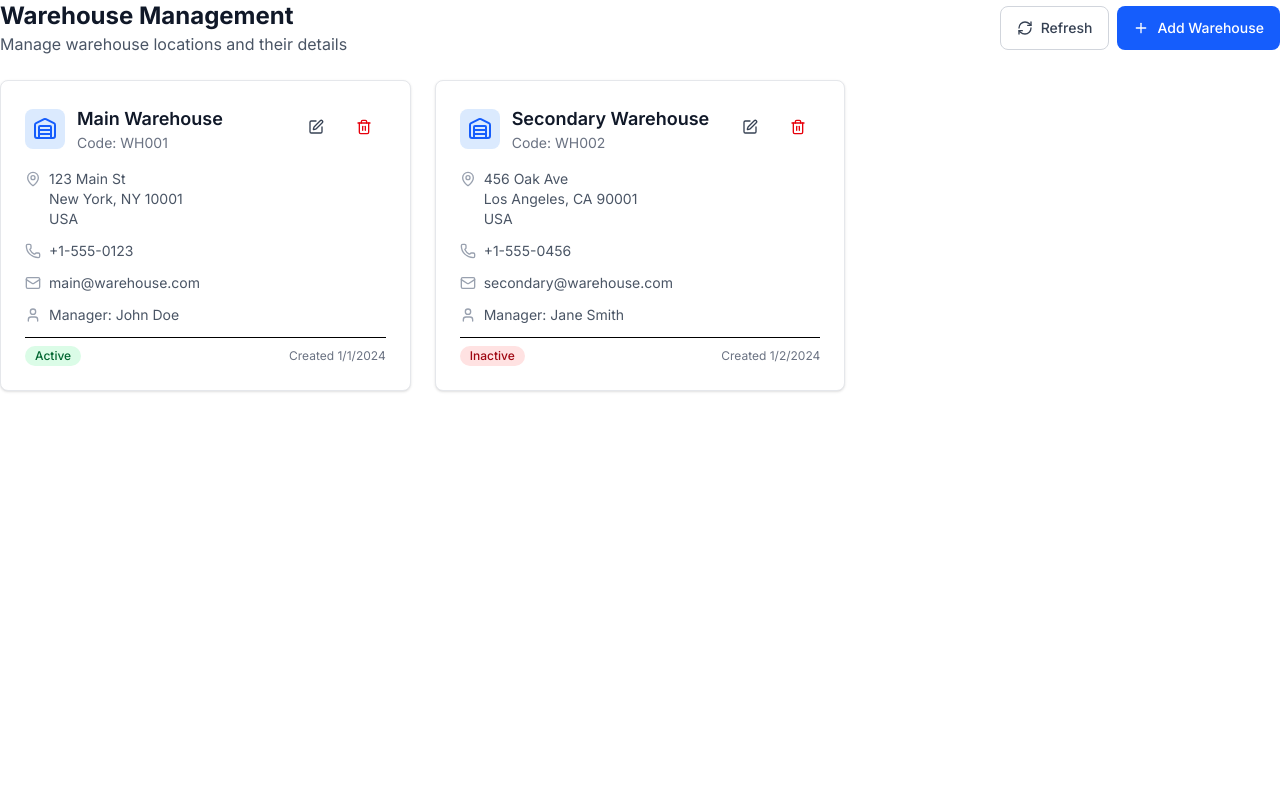
Test: WarehouseForm › validates required fields
The width and height of the screenshot is (1280, 800).
Expected: the heading "Main Warehouse" is shown, [77,108,223,129]
Click the text "Add Warehouse".
click(1211, 28)  # box [1158,18,1264,38]
(page scrolled)
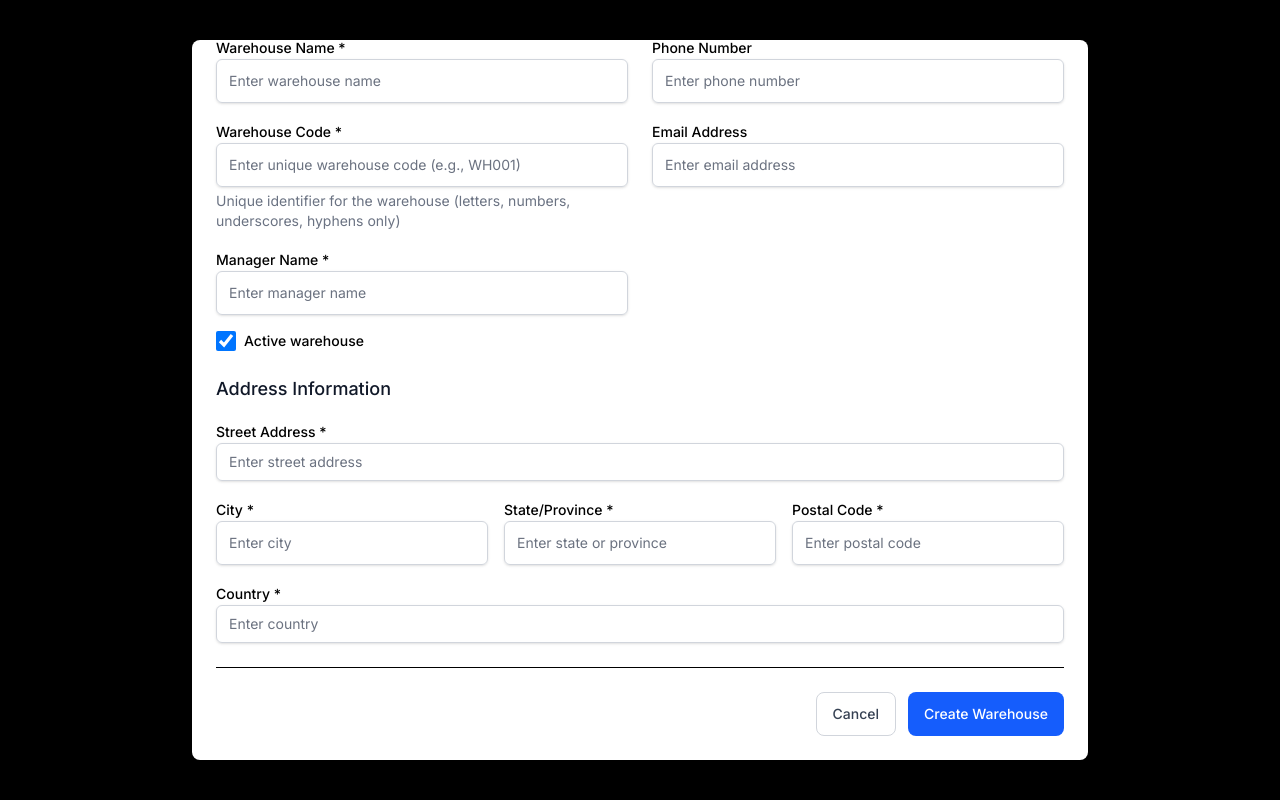
# Try to submit empty form
Click the button "Create Warehouse".
click(986, 714)  # box [908,692,1064,736]
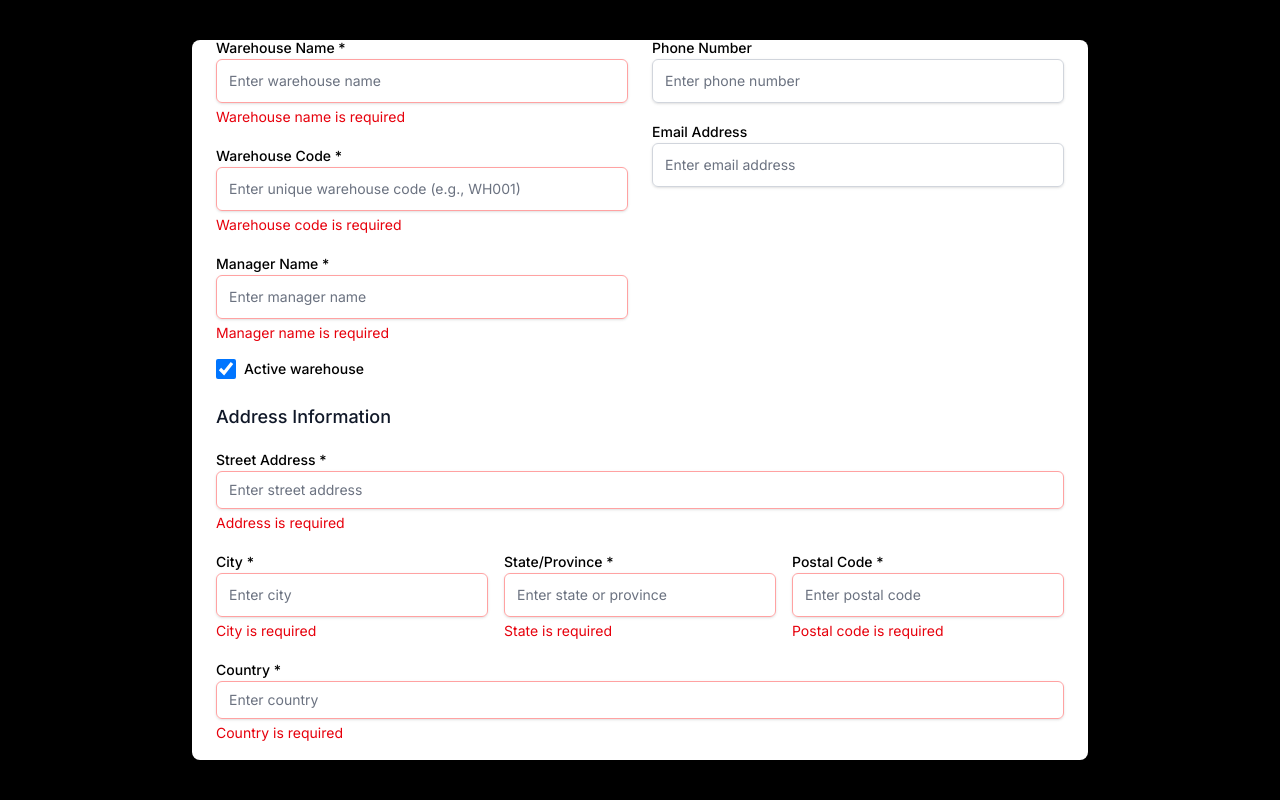
Result: the text "Warehouse name is required" is shown at [216,108,405,125]
Result: the text "Warehouse code is required" is shown at [216,216,402,233]
Result: the text "Address is required" is shown at [216,514,345,531]
